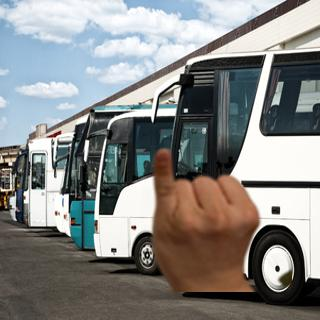FINE: (146, 143, 266, 290)
